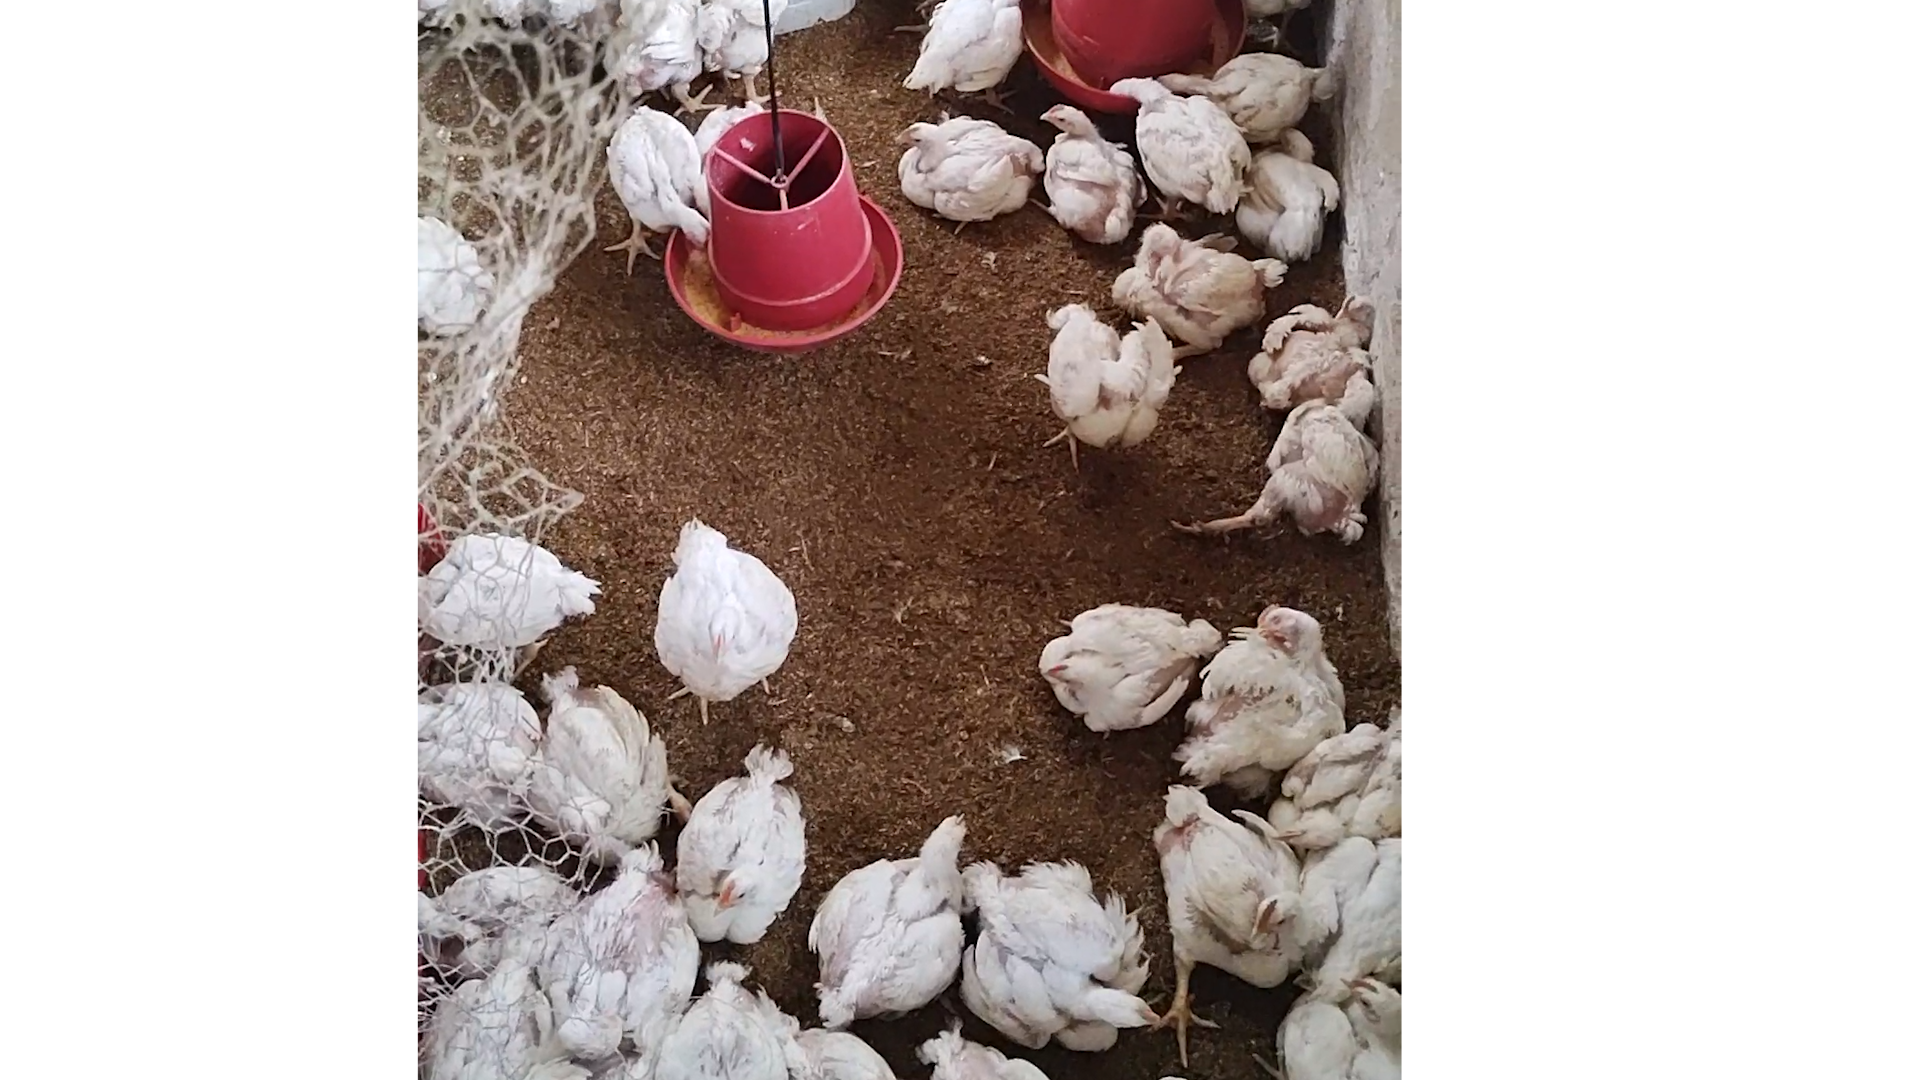Pollos: (1133, 773, 1313, 1058), (939, 843, 1160, 1048), (1160, 369, 1399, 535), (803, 811, 975, 1025), (543, 833, 698, 1069), (647, 504, 798, 720), (509, 684, 687, 866), (1035, 583, 1226, 746), (1175, 607, 1352, 775), (680, 736, 814, 949), (1025, 295, 1174, 473), (423, 520, 608, 657), (406, 931, 570, 1080), (1116, 219, 1282, 363), (406, 669, 547, 836), (1286, 832, 1424, 996), (1106, 66, 1255, 218), (1249, 957, 1429, 1080), (887, 107, 1048, 236), (1266, 715, 1404, 861), (597, 100, 704, 282), (1149, 44, 1345, 138), (419, 869, 578, 982), (1036, 94, 1151, 248), (1232, 128, 1344, 276), (1247, 290, 1379, 407), (597, 0, 711, 131), (649, 971, 775, 1080), (905, 0, 1021, 94)
